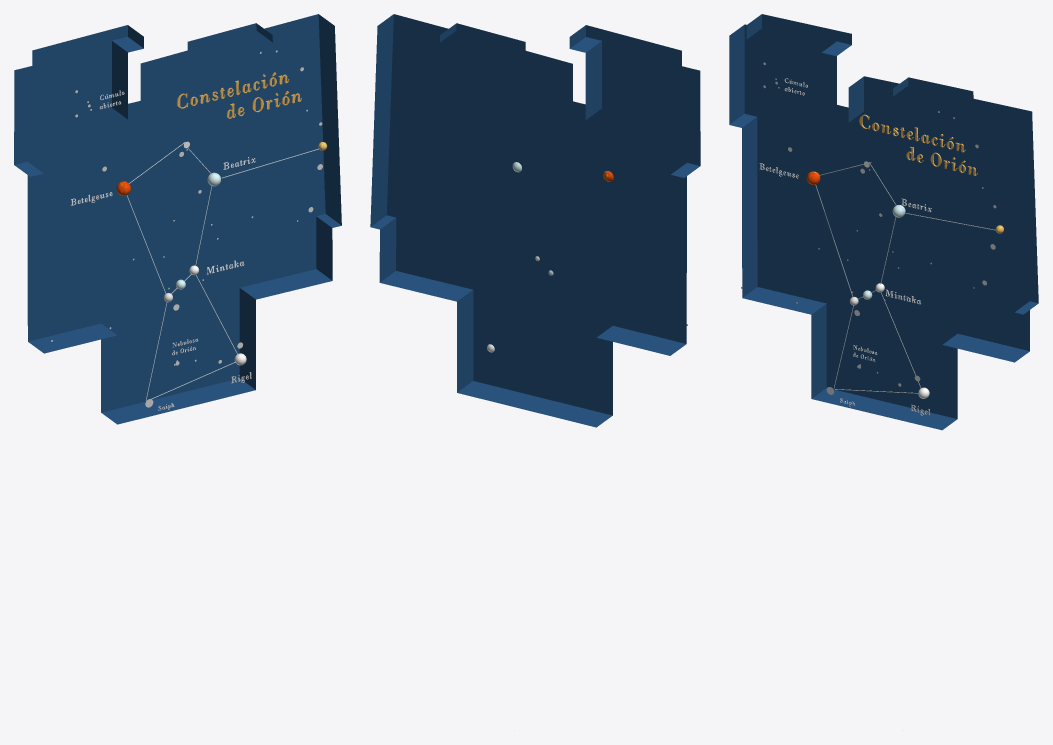
Rendered from Orion1.gltf.
3 views of the same model, side by side, from view 1: azimuth 30°, elevation 25°; view 2: azimuth 150°, elevation 25°; view 3: azimuth 330°, elevation 25° (orthographic). The views are drawn at different scales.
Parts seen in each view (by area): view 1: Cubo, Texto.002; view 2: Cubo; view 3: Cubo, Texto.002.
Part boxes in pixels (x1=…): Cubo: x1=14, y1=14, x2=341, y2=424; Texto.002: x1=176, y1=72, x2=289, y2=108; Cubo: x1=370, y1=14, x2=700, y2=427; Cubo: x1=729, y1=14, x2=1038, y2=430; Texto.002: x1=859, y1=114, x2=965, y2=152.
Size of the model in its own units: 13.05 by 28.55 by 1.61.
Materials: 10 (5 with a texture image).
